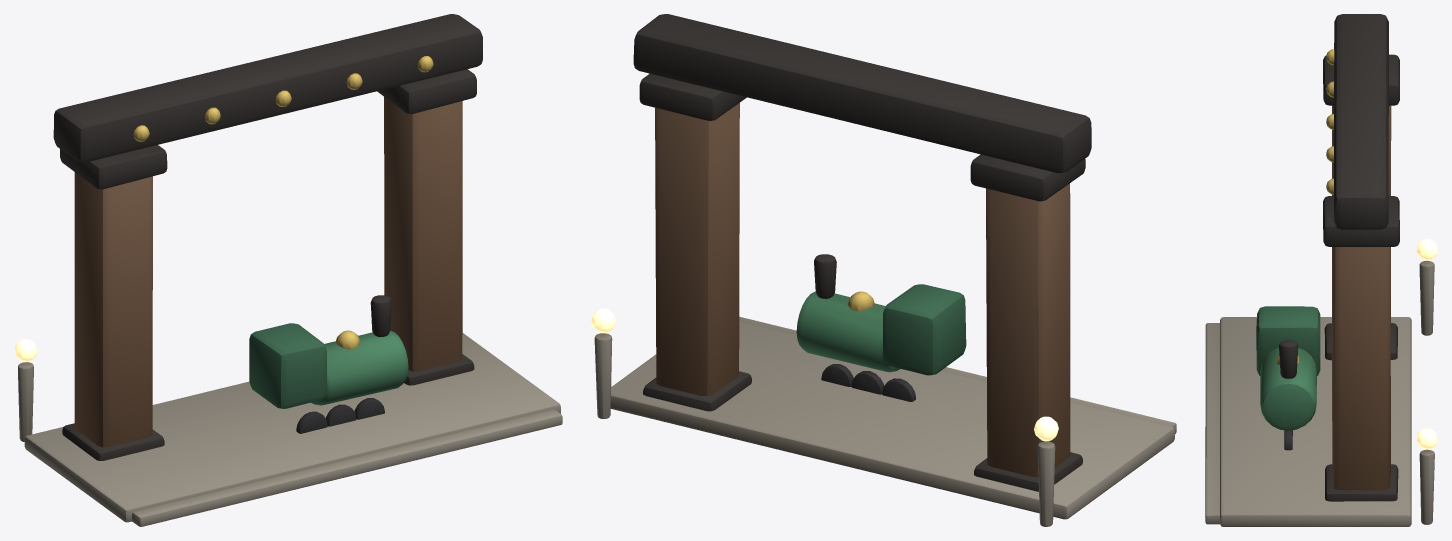
The picture shows the model from 3 angles, left to right: view 1: azimuth 30°, elevation 25°; view 2: azimuth 150°, elevation 25°; view 3: azimuth 270°, elevation 25°; orthographic projection. The views are drawn at different scales.
Visible parts, largest first — view 1: gate_2fafd8d6; view 2: gate_2fafd8d6; view 3: gate_2fafd8d6.
Boxes of the visible parts, x1,y1,x2,y2 form: gate_2fafd8d6: (14,14,562,526); gate_2fafd8d6: (591,14,1176,526); gate_2fafd8d6: (1205,14,1437,526).
Bounding box in the file's own units: 5.17 × 3.94 × 2.55.
